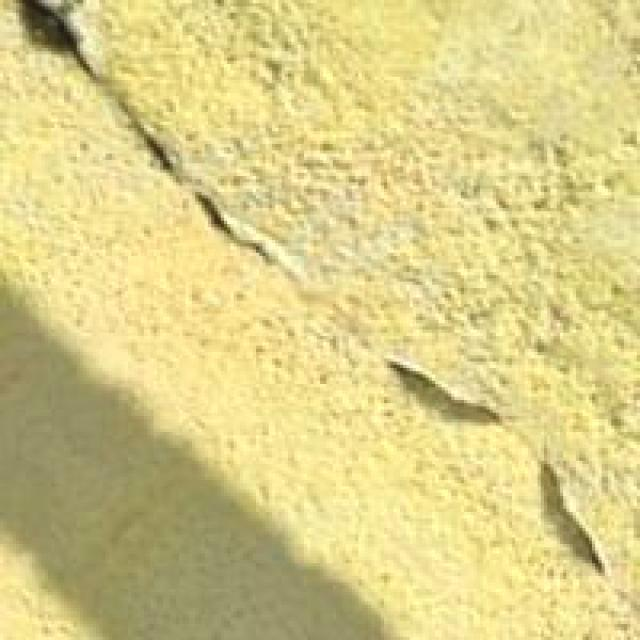crack: (0, 0, 316, 300), (374, 334, 620, 594)
